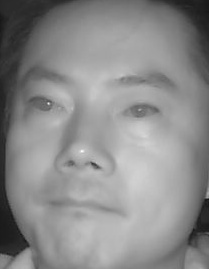eye: (112, 97, 165, 127), (24, 92, 71, 123)
mouth: (43, 179, 128, 230)
